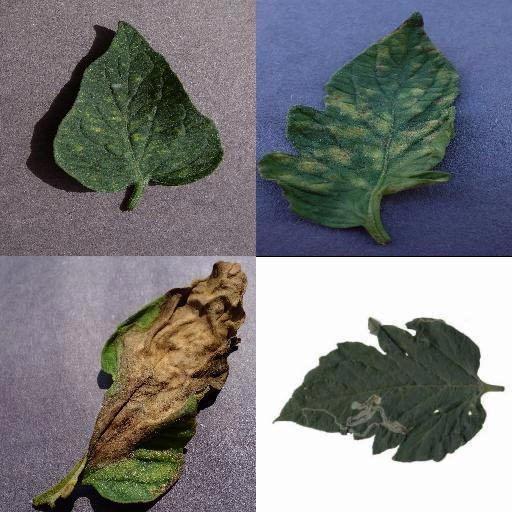Late Blight: (31, 261, 248, 512)
Leaf Miner: (273, 315, 487, 462)
Leaf Mold: (260, 10, 462, 228)
Spider Mites: (55, 21, 223, 189)
